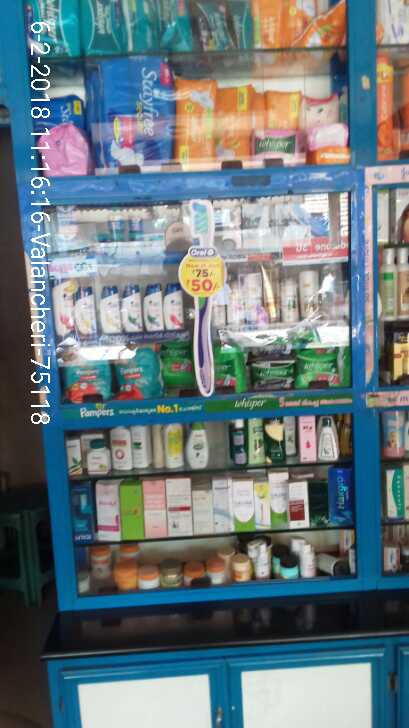vicks: (95, 211, 164, 240)
